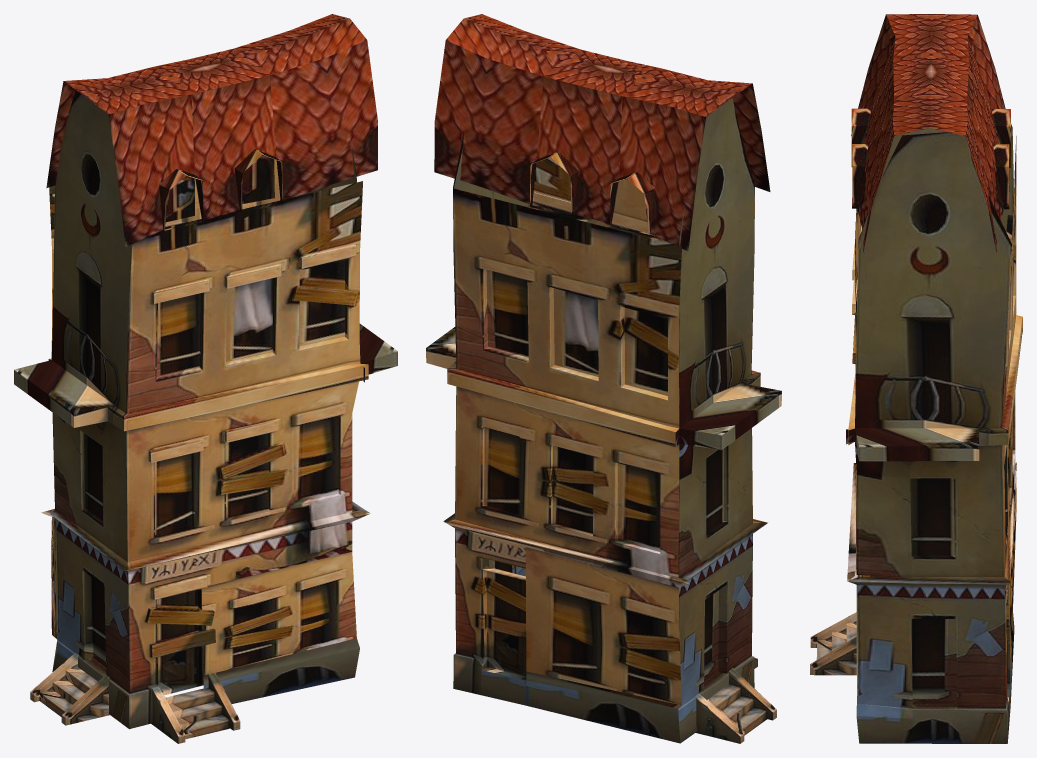
3 views of the same model, side by side, from view 1: azimuth 30°, elevation 25°; view 2: azimuth 150°, elevation 25°; view 3: azimuth 270°, elevation 25° (orthographic).
Parts seen in each view (by area): view 1: t1; view 2: t1; view 3: t1.
Boxes of the visible parts, x1,y1,x2,y2 form: t1: (14, 14, 397, 743); t1: (426, 14, 781, 743); t1: (810, 14, 1022, 743).
Bounding box in the file's own units: 2.08 × 4.02 × 1.23.
1 material, 1 textured.
